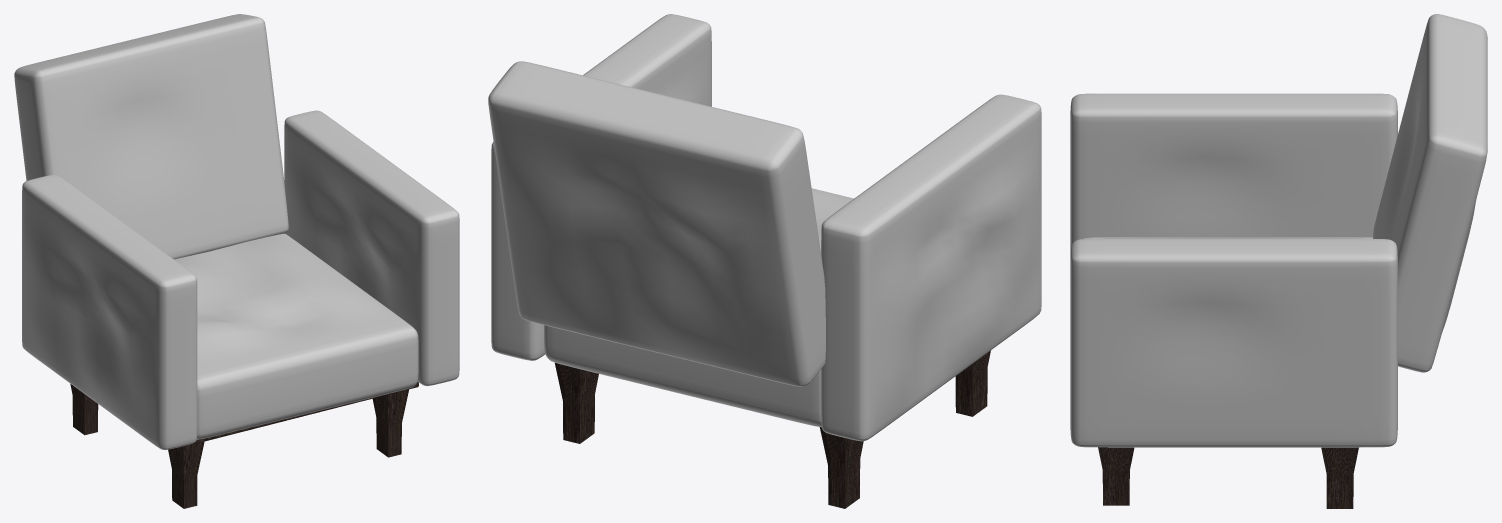
The model's file is sofa for reception.fbx.
3 renders of one model, left to right at view 1: azimuth 30°, elevation 25°; view 2: azimuth 150°, elevation 25°; view 3: azimuth 270°, elevation 25°, orthographic. The views are drawn at different scales.
Parts seen in each view (by area): view 1: polySurface131, thing_that_holds_the_sofa; view 2: polySurface131, thing_that_holds_the_sofa; view 3: polySurface131, thing_that_holds_the_sofa.
Part boxes in pixels (bbox=[...]): polySurface131: bbox=[14, 14, 459, 449]; thing_that_holds_the_sofa: bbox=[70, 382, 418, 508]; polySurface131: bbox=[488, 14, 1041, 441]; thing_that_holds_the_sofa: bbox=[555, 350, 990, 508]; polySurface131: bbox=[1070, 14, 1487, 447]; thing_that_holds_the_sofa: bbox=[1098, 447, 1358, 508].
Size of the model in its own units: 1684 by 1721 by 1748.
